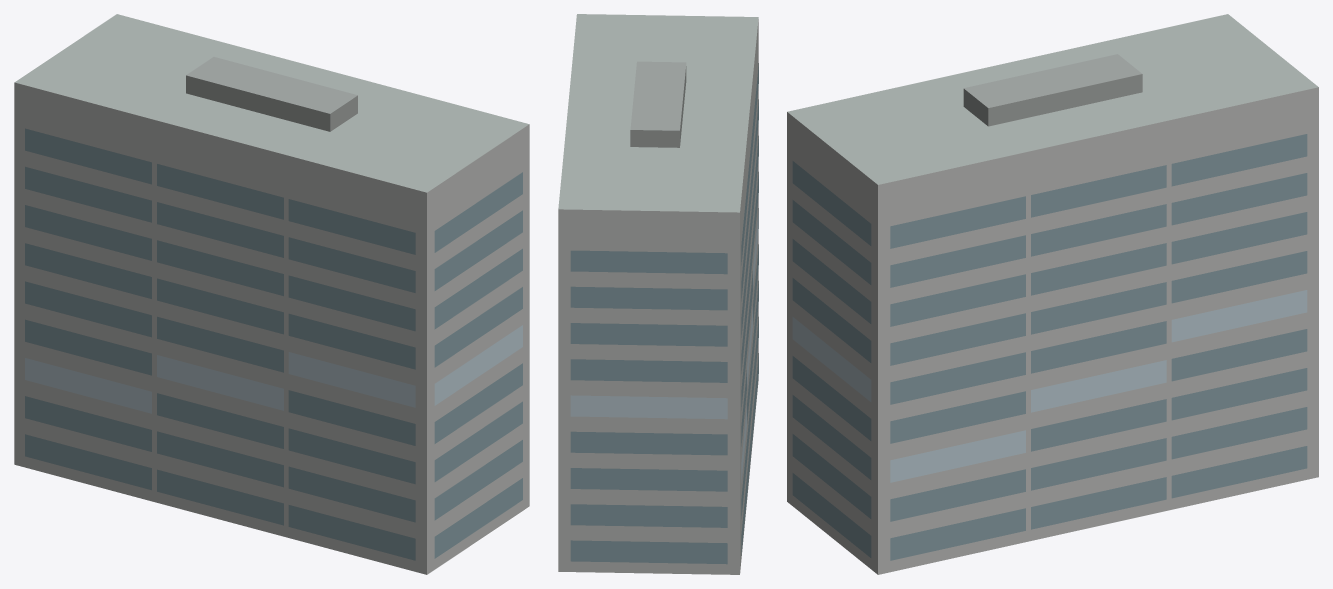
File: apt-a13784907.glb
The picture shows the model from 3 angles, left to right: view 1: azimuth 30°, elevation 25°; view 2: azimuth 150°, elevation 25°; view 3: azimuth 270°, elevation 25°; orthographic projection. The views are drawn at different scales.
Visible parts, largest first — view 1: apt-a13784907; view 2: apt-a13784907; view 3: apt-a13784907.
Boxes of the visible parts, x1,y1,x2,y2 form: apt-a13784907: (14,14,529,574); apt-a13784907: (558,14,758,574); apt-a13784907: (787,14,1318,574).
Size of the model in its own units: 25.15 by 28 by 33.05.
